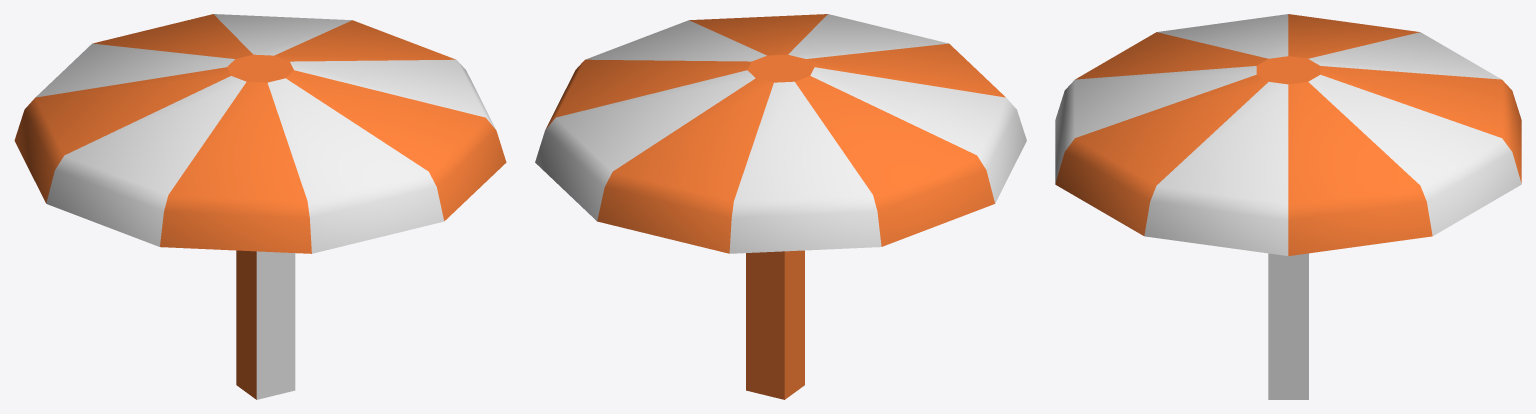
File: Umbrella_1.FBX
3 renders of one model, left to right at view 1: azimuth 30°, elevation 25°; view 2: azimuth 150°, elevation 25°; view 3: azimuth 270°, elevation 25°, orthographic.
Parts seen in each view (by area): view 1: Umbrella 01; view 2: Umbrella 01; view 3: Umbrella 01.
Part boxes in pixels (x1,y1,x2,y2): Umbrella 01: (14,14,506,399); Umbrella 01: (535,14,1026,399); Umbrella 01: (1055,14,1521,399).
Bounding box in the file's own units: 2.11 × 1.51 × 2.01.
1 material, 1 textured.
